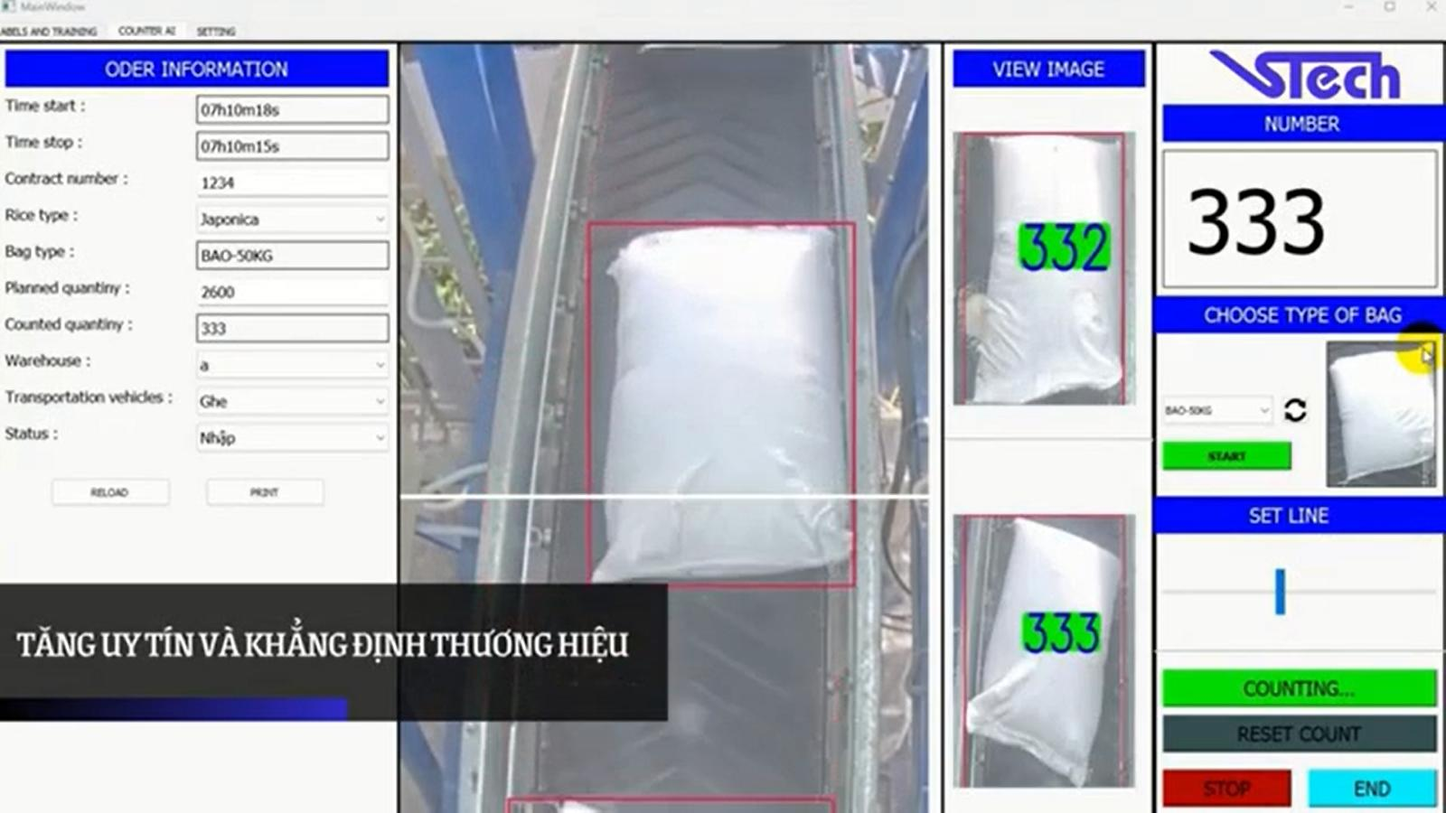rice-bag: (594, 228, 850, 581), (974, 135, 1123, 404), (966, 520, 1117, 785)
